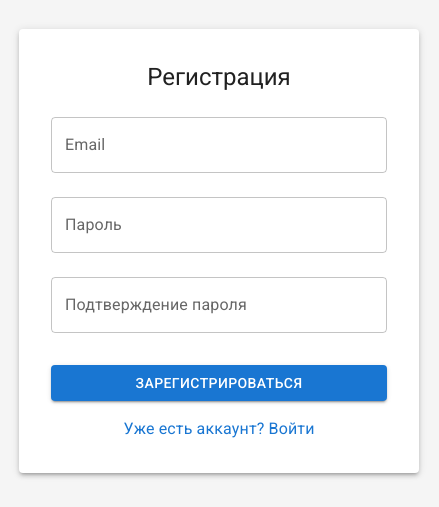
Scenario: RegisterPage › shows validation error when password is too short
Type "test@test.com" into the field labelled "Email".
click(219, 145); type("test@test.com")  # box [51,117,387,173]
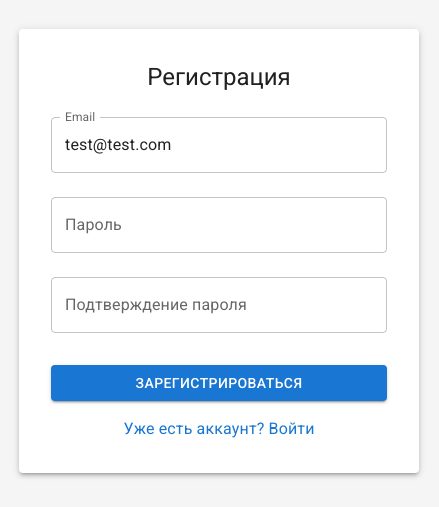
Type "123" into the password field labelled "Пароль".
click(219, 225); type("123")  # box [51,197,387,253]
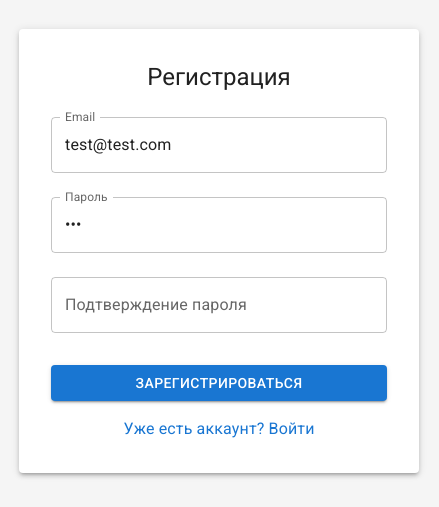
Type "123" into the password field labelled "Подтверждение пароля".
click(219, 305); type("123")  # box [51,277,387,333]
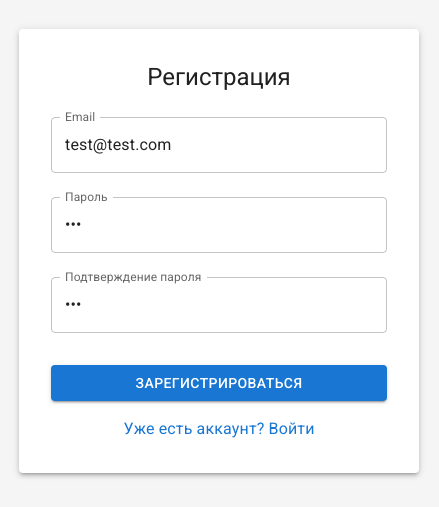
Click the button "Зарегистрироваться".
click(219, 383)  # box [51,365,387,402]
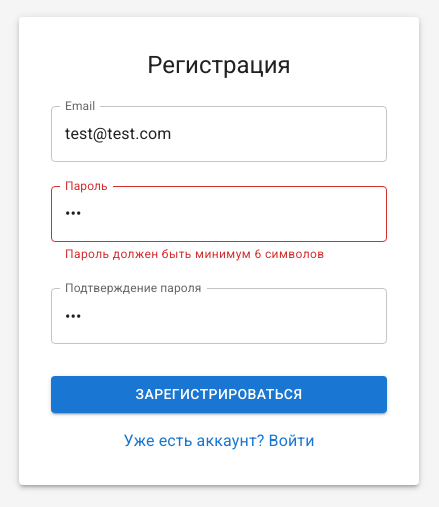
Check: the text "Пароль должен быть минимум 6 символов" is shown, box [65,246,324,260]
